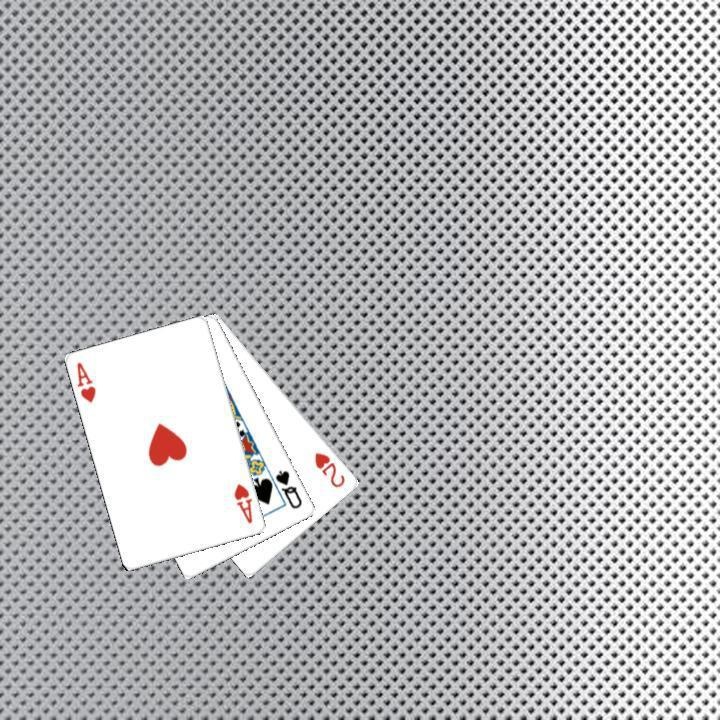2: (310, 448, 348, 490)
A: (230, 479, 255, 526), (73, 358, 98, 405)
Q: (271, 466, 304, 511)
